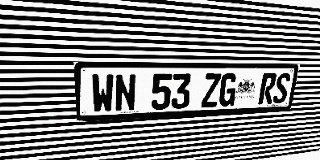3: (171, 73, 192, 109)
5: (151, 74, 172, 110)
G: (218, 73, 238, 107)
N: (115, 74, 136, 112)
R: (258, 73, 277, 104)
S: (272, 73, 291, 104)
W: (91, 74, 114, 113)
Z: (201, 73, 221, 107)
